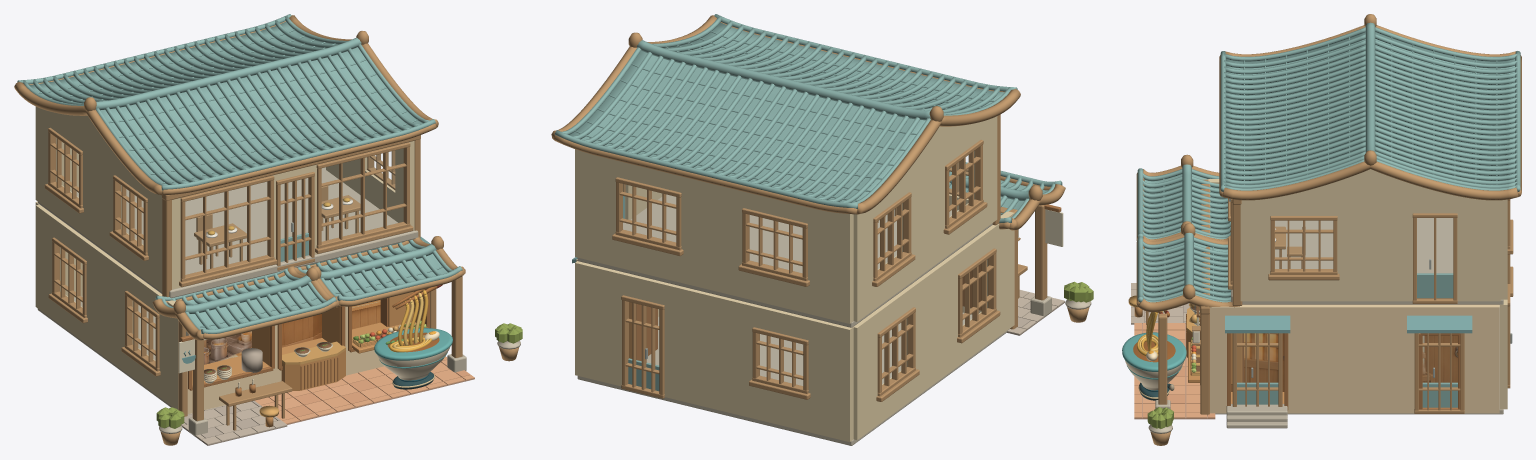
Rendered from 08-A-c0ddaad4a586.glb.
The picture shows the model from 3 angles, left to right: view 1: azimuth 30°, elevation 25°; view 2: azimuth 150°, elevation 25°; view 3: azimuth 270°, elevation 25°; orthographic projection. The views are drawn at different scales.
Visible parts, largest first — view 1: SM_08_02_曲面屋顶, SM_08_01_建筑墙体, SM_08_04_门窗楼梯, SM_08_06_景观设施, SM_08_06_院内及专用铺地, SM_08_03_木构回廊, SM_08_06_门前充气招牌, SM_08_05_景观植物; view 2: SM_08_01_建筑墙体, SM_08_02_曲面屋顶, SM_08_04_门窗楼梯, SM_08_03_木构回廊, SM_08_05_景观植物, SM_08_06_院内及专用铺地; view 3: SM_08_02_曲面屋顶, SM_08_01_建筑墙体, SM_08_04_门窗楼梯, SM_08_03_木构回廊, SM_08_06_院内及专用铺地, SM_08_06_门前充气招牌, SM_08_06_景观设施, SM_08_05_景观植物.
Boxes of the visible parts, x1,y1,x2,y2 form: SM_08_02_曲面屋顶: (14, 14, 465, 340); SM_08_01_建筑墙体: (35, 106, 423, 413); SM_08_04_门窗楼梯: (44, 127, 429, 390); SM_08_06_景观设施: (194, 185, 427, 430); SM_08_06_院内及专用铺地: (181, 356, 474, 445); SM_08_03_木构回廊: (162, 135, 466, 436); SM_08_06_门前充气招牌: (374, 284, 452, 389); SM_08_05_景观植物: (156, 323, 522, 445); SM_08_01_建筑墙体: (575, 116, 1014, 445); SM_08_02_曲面屋顶: (551, 14, 1065, 263); SM_08_04_门窗楼梯: (612, 140, 1063, 401); SM_08_03_木构回廊: (992, 114, 1051, 329); SM_08_05_景观植物: (1064, 281, 1093, 322); SM_08_06_院内及专用铺地: (1007, 290, 1064, 335); SM_08_02_曲面屋顶: (1136, 14, 1521, 333); SM_08_01_建筑墙体: (1208, 169, 1507, 414); SM_08_04_门窗楼梯: (1188, 198, 1513, 428); SM_08_03_木构回廊: (1155, 179, 1242, 415); SM_08_06_院内及专用铺地: (1131, 283, 1215, 419); SM_08_06_门前充气招牌: (1122, 310, 1186, 400); SM_08_06_景观设施: (1128, 226, 1305, 382); SM_08_05_景观植物: (1147, 407, 1173, 445).
Size of the model in its own units: 10.72 by 7.39 by 9.91.
Materials: 56 (1 with a texture image).
